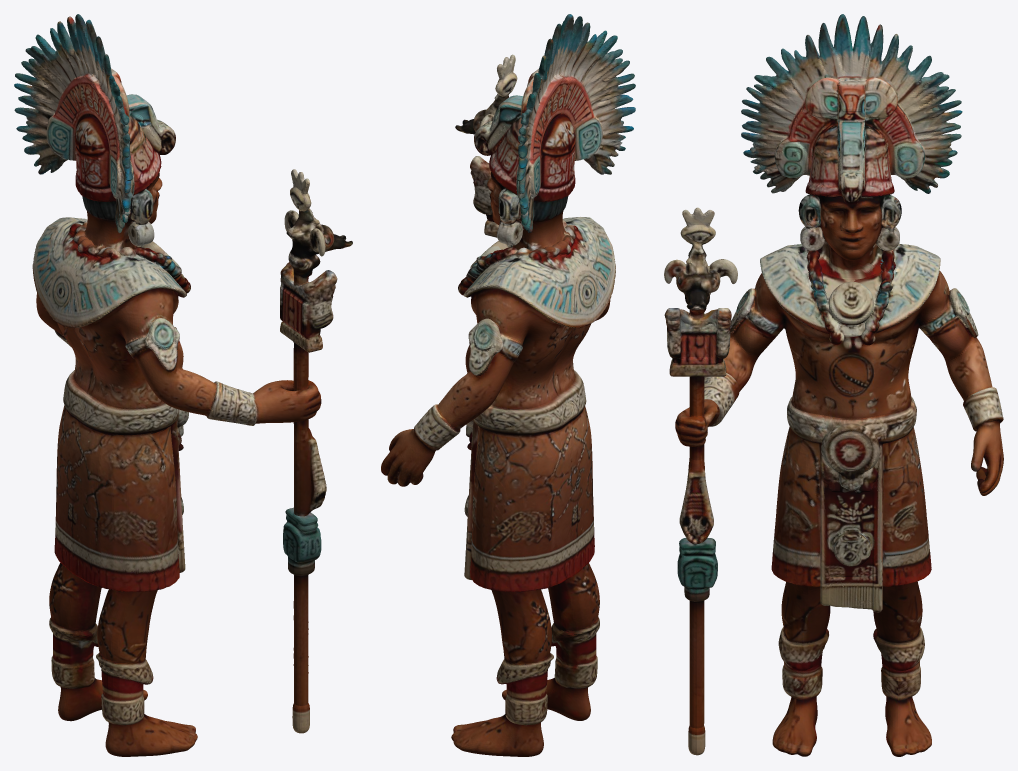
File: sociedad_chavin.glb
3 renders of one model, left to right at view 1: azimuth 30°, elevation 25°; view 2: azimuth 150°, elevation 25°; view 3: azimuth 270°, elevation 25°, orthographic. The views are drawn at different scales.
Parts seen in each view (by area): view 1: tripo_node_5140df3f-9c3f-45ed-be6d-0c9f596c2e8f; view 2: tripo_node_5140df3f-9c3f-45ed-be6d-0c9f596c2e8f; view 3: tripo_node_5140df3f-9c3f-45ed-be6d-0c9f596c2e8f.
Part boxes in pixels (bbox=[...]): tripo_node_5140df3f-9c3f-45ed-be6d-0c9f596c2e8f: bbox=[14, 14, 352, 756]; tripo_node_5140df3f-9c3f-45ed-be6d-0c9f596c2e8f: bbox=[381, 14, 635, 756]; tripo_node_5140df3f-9c3f-45ed-be6d-0c9f596c2e8f: bbox=[664, 14, 1003, 756].
Size of the model in its own units: 0.3108 by 1 by 0.4367.
1 material, 1 textured.
